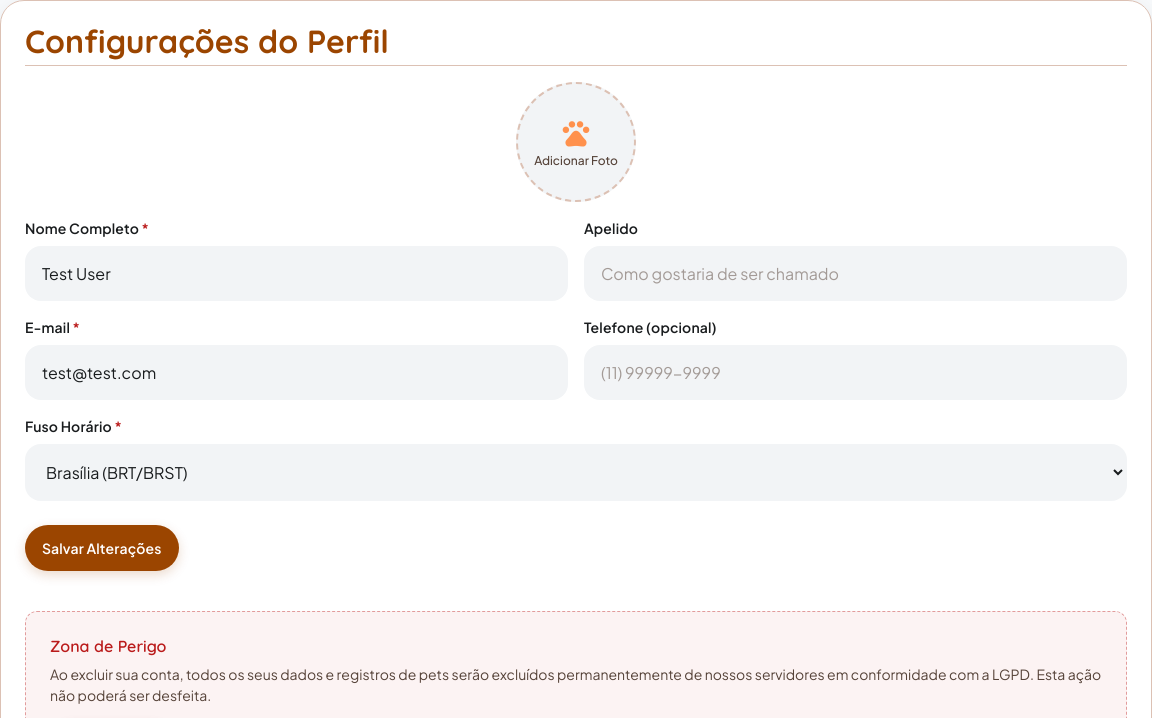
Test: ProfileForm Component › should validate short name and invalid email
The width and height of the screenshot is (1152, 718).
Replace the text in the field labelled "Nome Completo" with "A" at {"x": 296, "y": 274}, box [25,246,568,301]
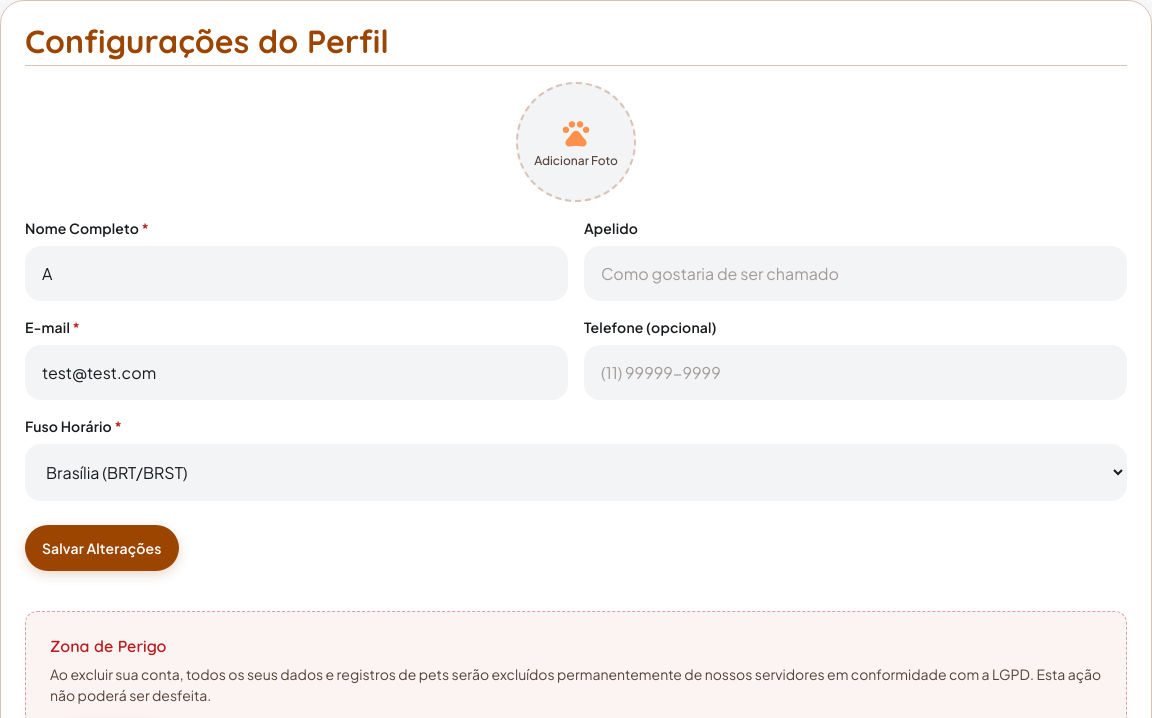
Replace the text in the field labelled "E-mail" with "invalid-email" at {"x": 296, "y": 372}, box [25,345,568,400]
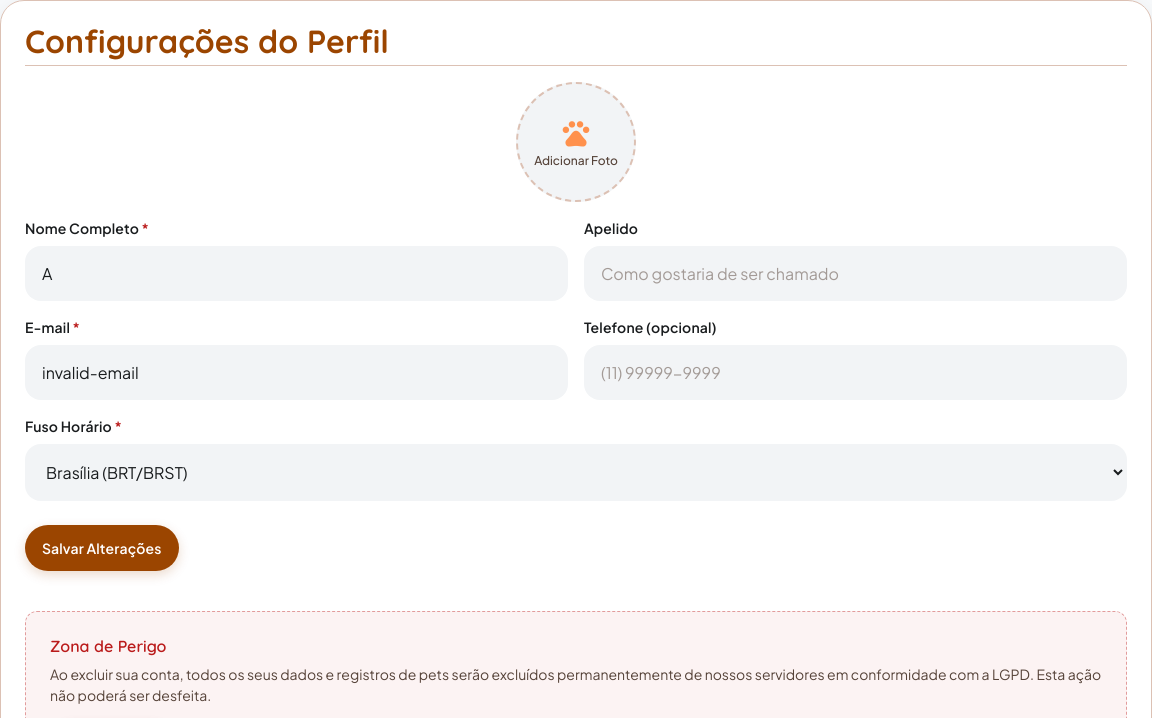
Submit the form named "Salvar Alterações"
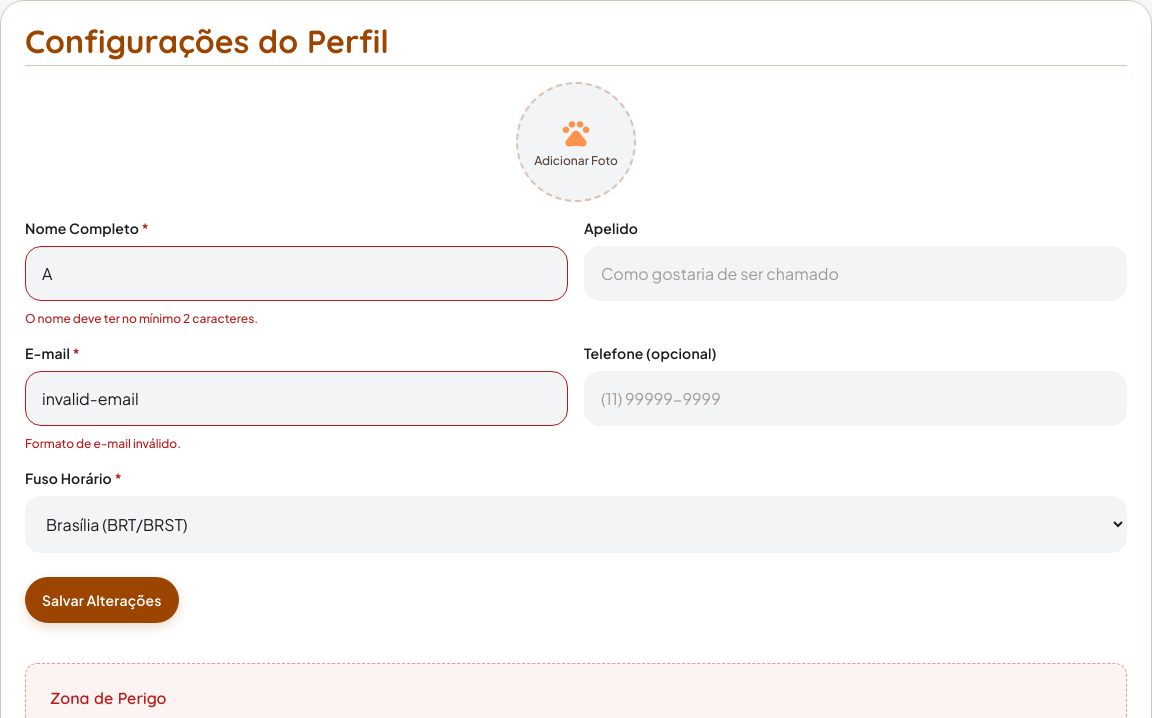
Expected: the text "O nome deve ter no mínimo 2 caracteres." is shown, [25,311,258,326]
Expected: the text "Formato de e-mail inválido." is shown, [25,436,181,451]
